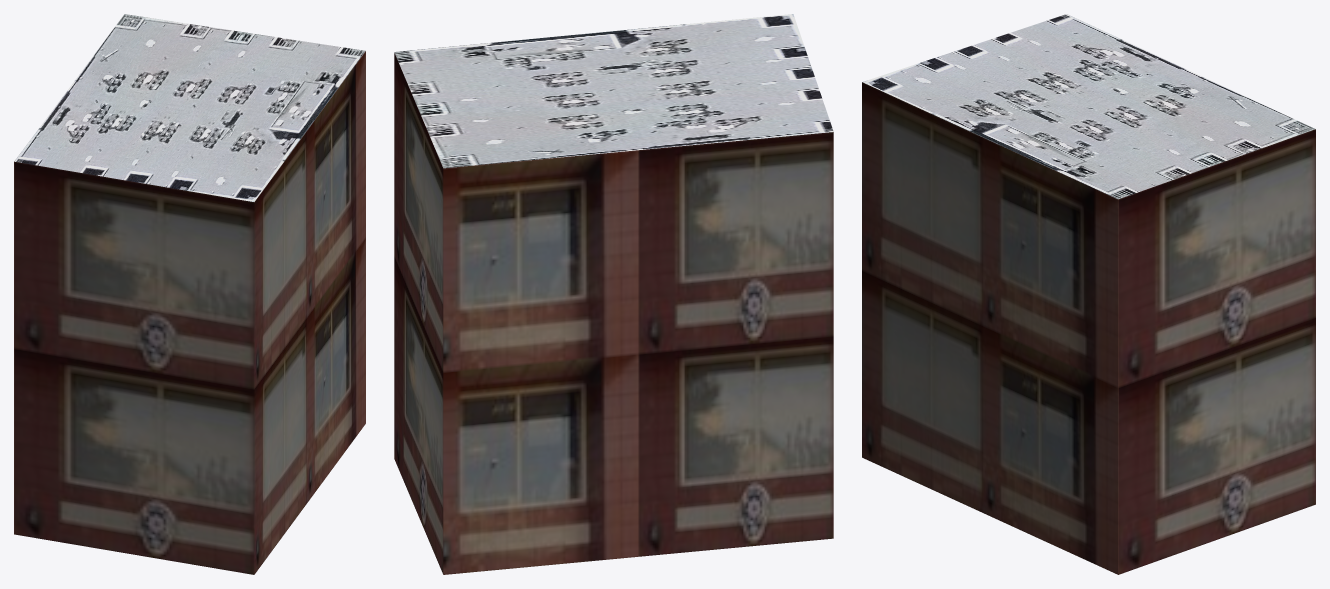
File: ResTex__1518.fbx
3 views of the same model, side by side, from view 1: azimuth 30°, elevation 25°; view 2: azimuth 150°, elevation 25°; view 3: azimuth 270°, elevation 25° (orthographic). The views are drawn at different scales.
Parts seen in each view (by area): view 1: CityEngineMaterial_13_m, CityEngineMaterial_m; view 2: CityEngineMaterial_13_m, CityEngineMaterial_m; view 3: CityEngineMaterial_13_m, CityEngineMaterial_m.
Boxes of the visible parts, box(x1,y1,x2,y2) form: CityEngineMaterial_13_m: box(14, 51, 365, 574); CityEngineMaterial_m: box(14, 14, 365, 201); CityEngineMaterial_13_m: box(394, 53, 833, 574); CityEngineMaterial_m: box(394, 14, 833, 168); CityEngineMaterial_13_m: box(862, 82, 1315, 574); CityEngineMaterial_m: box(862, 14, 1315, 199).
Bounding box in the file's own units: 6.36 × 6 × 6.57.
2 materials, 2 textured.
